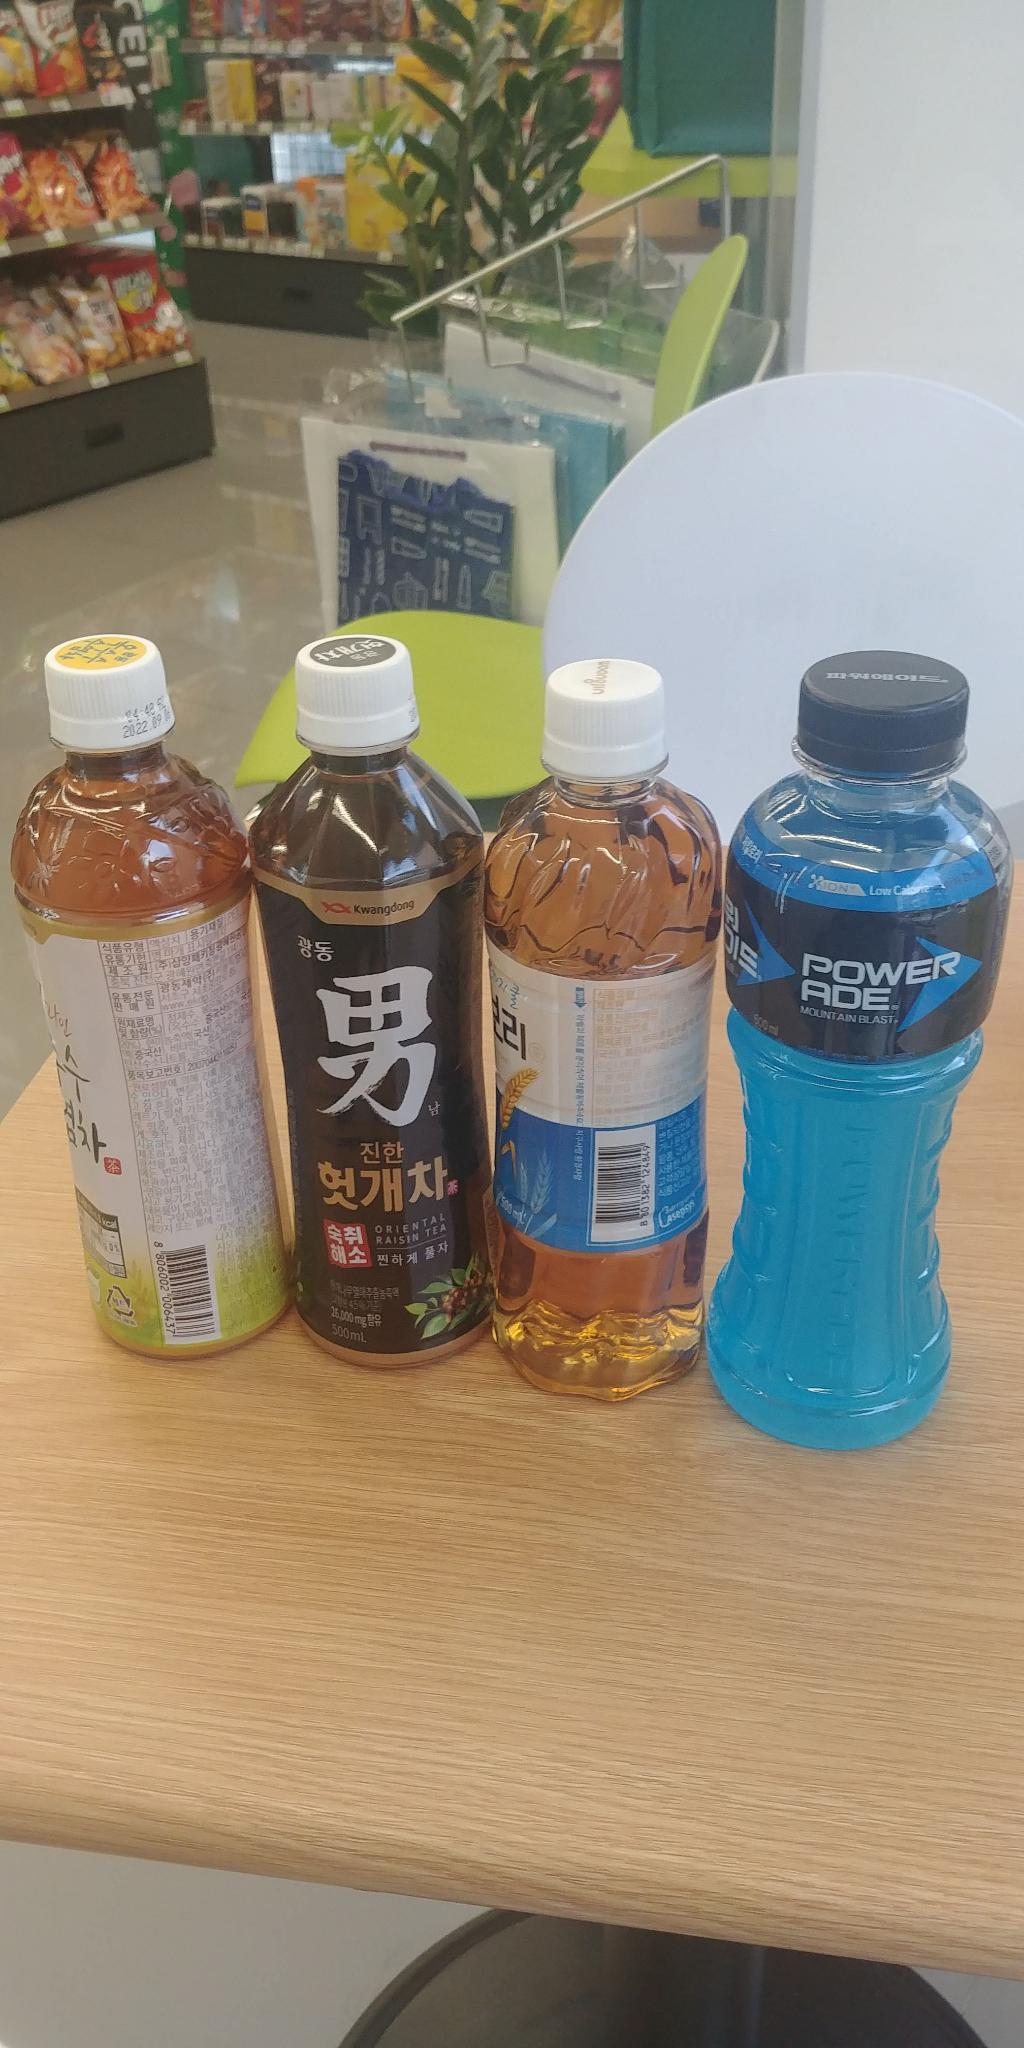haneulbori: (483, 654, 721, 1417)
heotgaecha: (253, 620, 524, 1370)
oksususuyeomcha: (9, 631, 306, 1353)
powerade_mountainblast: (713, 613, 1014, 1451)
